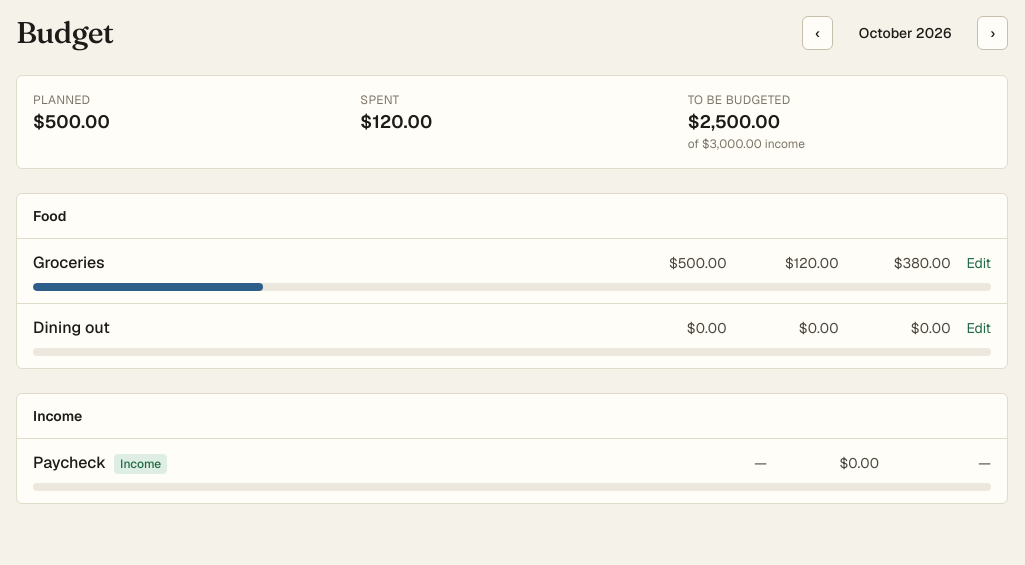
Test: BudgetPage › saves an edited limit and applies the returned view
Expected: the element "Food" is shown, [16,193,1008,369]
Step 1. Click the button with aria-label "Edit limit for Groceries" → click(979, 263), box [966,253,991,273]
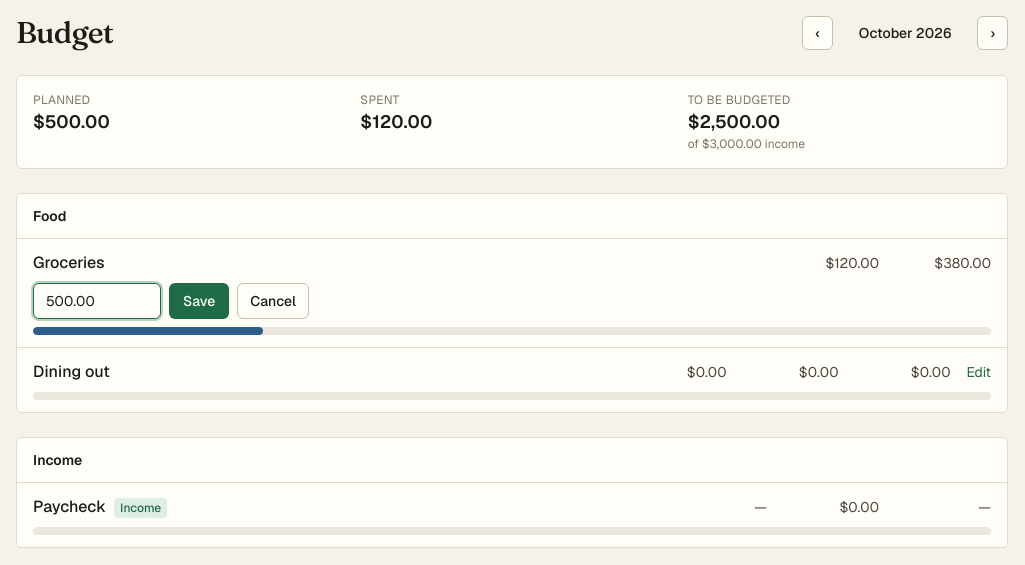
Expected: the field named "Monthly limit for Groceries" holds "500.00"
Step 2. Replace the text in the field named "Monthly limit for Groceries" with "600" → (97, 301), box [33,283,161,319]
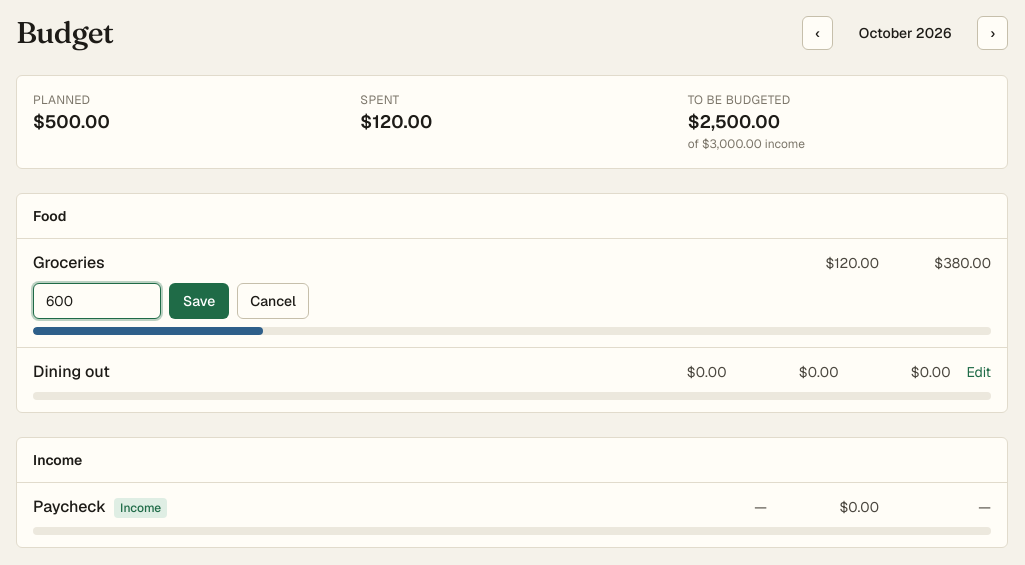
Step 3. Click the button "Save" → click(199, 301), box [169,283,229,319]
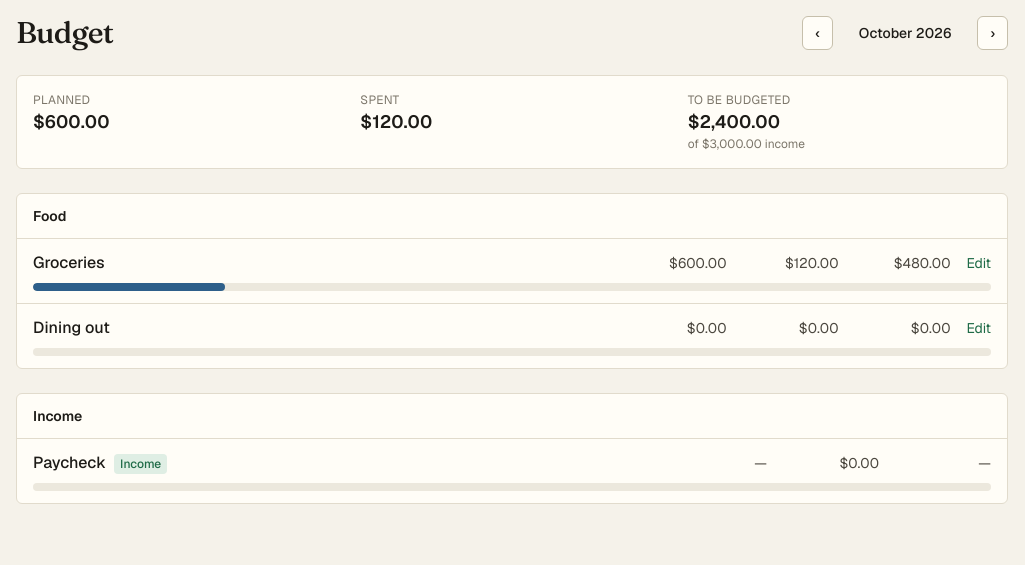
Expected: the text "$600.00" in the row of "$480.00" is shown, [669,254,726,272]
